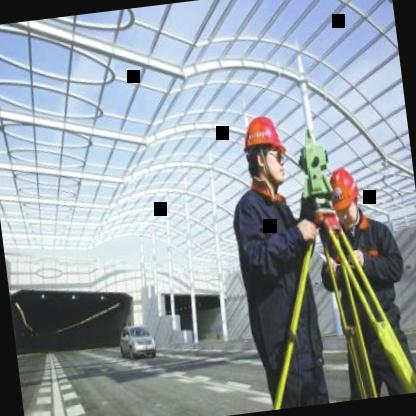helmet: (236, 108, 292, 194), (326, 164, 364, 227)
